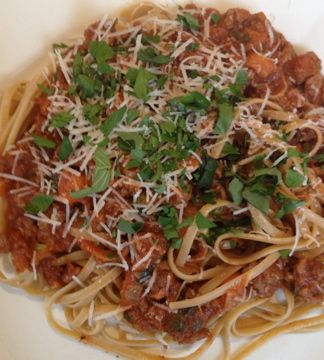plain spaghetti: (6, 6, 311, 360)
